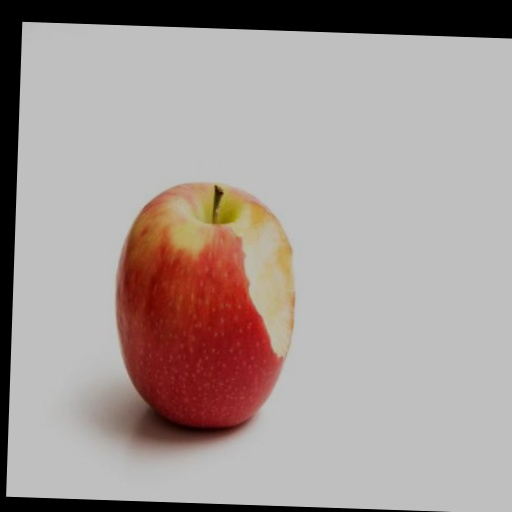fruit: (116, 184, 294, 427)
